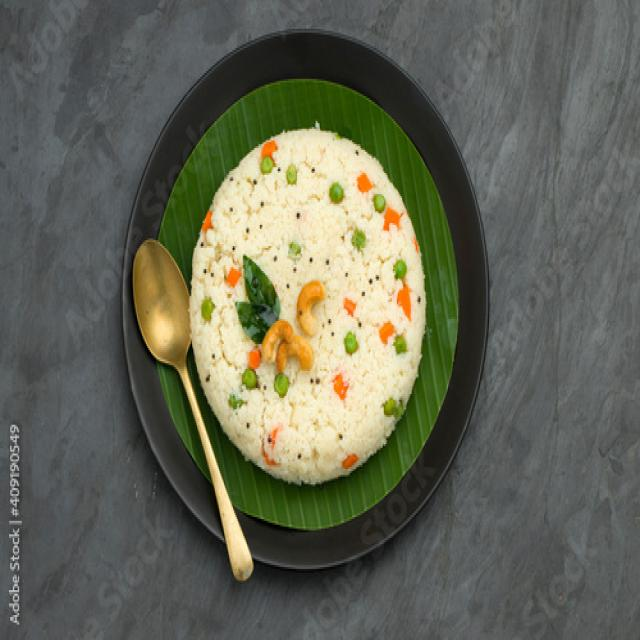UPMA: (191, 129, 425, 482)
